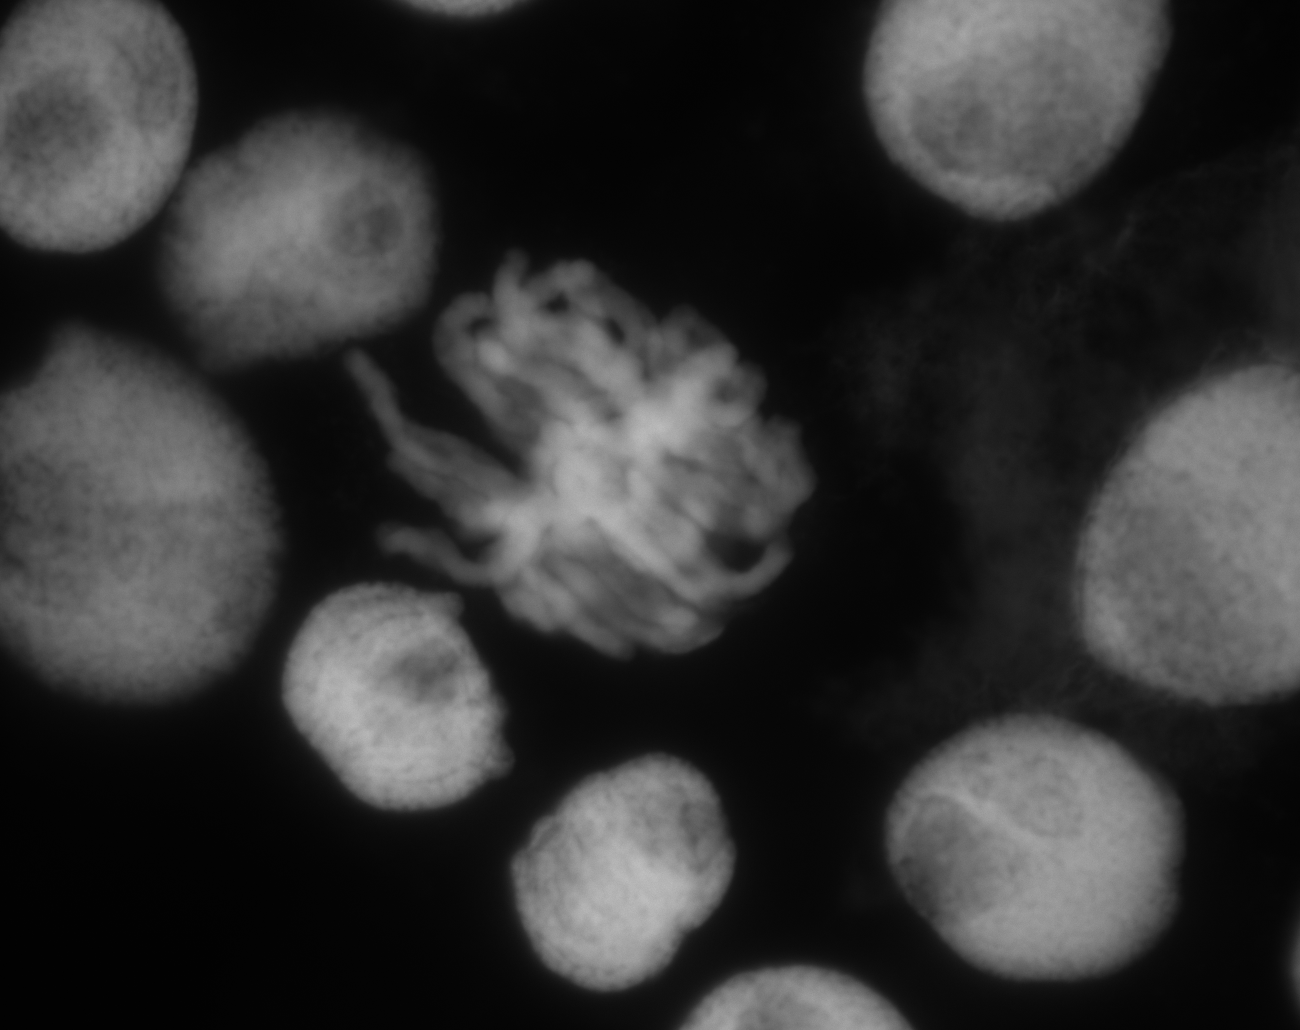Chromosomes: (332, 206, 836, 702), (487, 748, 739, 1018)
Others: (877, 165, 1223, 729), (1036, 288, 1300, 759), (1, 316, 292, 728), (799, 210, 1154, 538), (856, 707, 1206, 1005), (830, 6, 1217, 251), (150, 91, 474, 360), (265, 575, 520, 822), (6, 5, 203, 280), (544, 919, 951, 1028)
